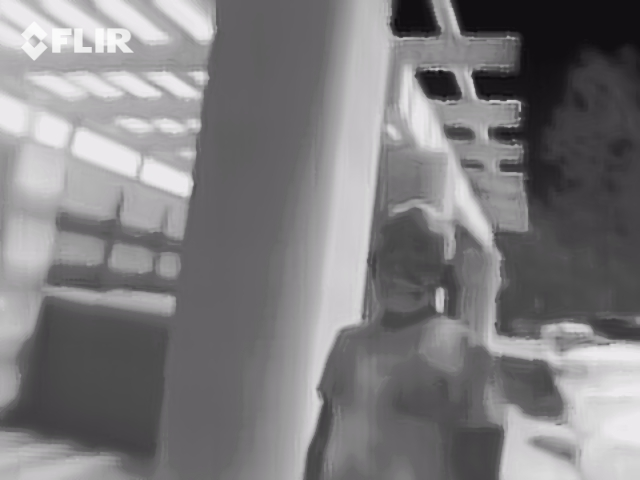head: (367, 198, 456, 315)
